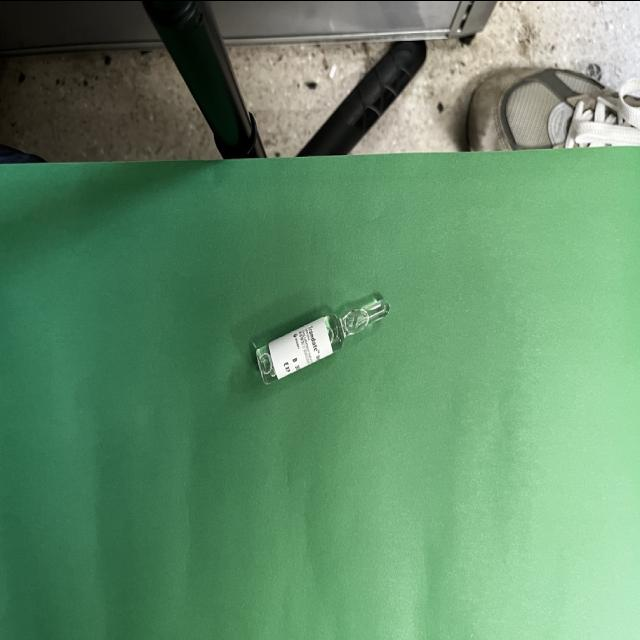Ampoules: (256, 294, 390, 383)
